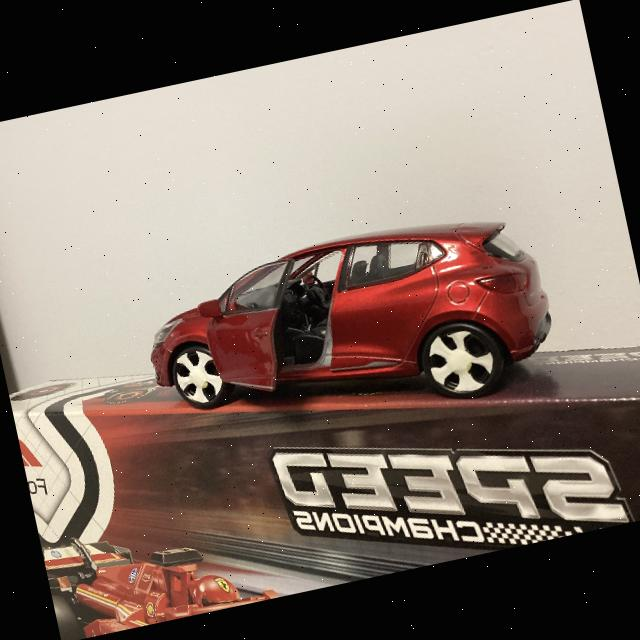Yanlis_Jant: (422, 322, 499, 397), (171, 343, 224, 406)
